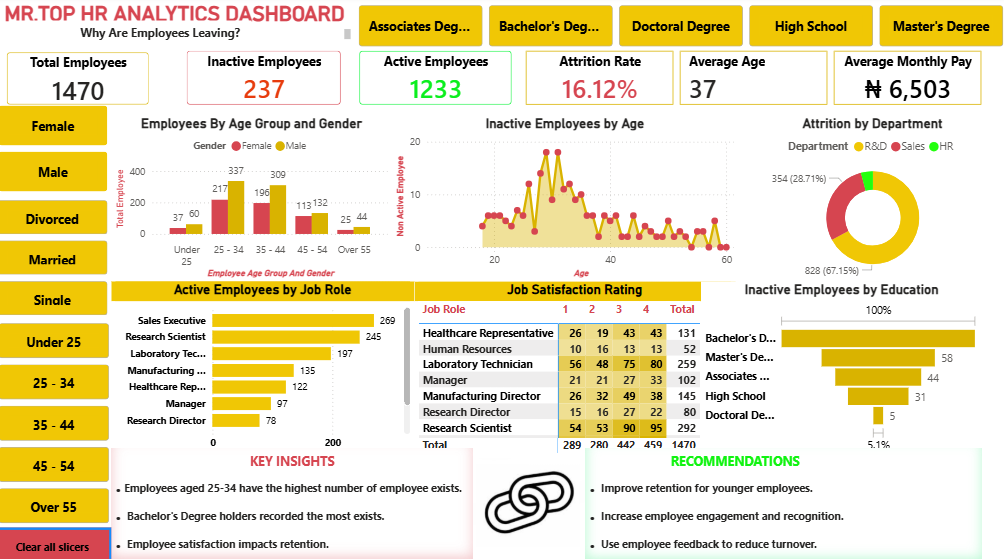

The page's visual inventory and layout, read from the dashboard file:
{"tool":"powerbi","page":{"name":"Dashboard","canvas":[1280,720],"ordinal":0},"visuals":[{"type":"cardVisual","fields":{"Data":["Sum(HR data.Employee Count)"]},"box":[0,54.7,213.2,100],"z":0},{"type":"cardVisual","fields":{"Data":["Sum(HR data.Attrition Column)"]},"box":[226.8,52.9,228.7,102],"z":1000},{"type":"cardVisual","fields":{"Data":["Sum(HR data.Non-Active Employee)"]},"box":[444.1,52.9,226.8,102],"z":2000},{"type":"cardVisual","fields":{"Data":["HR data.Attrition Rate","Avg(HR data.Age)","Avg(HR data.Monthly Income)"]},"box":[653.9,52.9,608.5,102],"z":3000},{"type":"clusteredColumnChart","title":"Employees By Age Group and Gender","fields":{"Y":["Sum(HR data.Employee Count)"],"Category":["HR data.Age Group"],"Series":["HR data.Gender"]},"box":[149.1,150.9,352.8,209.4],"z":4000},{"type":"areaChart","title":"Inactive Employees by Age","fields":{"Category":["HR data.Age"],"Y":["Sum(HR data.Non-Active Employee)"]},"box":[501.9,150.9,435.8,209.4],"z":5000},{"type":"donutChart","title":"Attrition by Department","fields":{"Category":["HR data.Department"],"Y":["Sum(HR data.Active Employee)"]},"box":[937.7,150.9,341.5,209.4],"z":6000},{"type":"clusteredBarChart","title":"Active Employees by Job Role","fields":{"Category":["HR data.Job Role"],"Y":["Sum(HR data.Active Employee)"]},"box":[149.1,360.4,381.1,220.8],"z":7000},{"type":"pivotTable","title":"Job Satisfaction Rating","fields":{"Rows":["HR data.Job Role"],"Columns":["HR data.Job Satisfaction"],"Values":["Sum(HR data.Employee Count)"]},"box":[530.2,360.4,403.8,220.8],"z":8000},{"type":"funnel","title":"Inactive Employees by Education","fields":{"Category":["HR data.Education"],"Y":["Sum(HR data.Non-Active Employee)"]},"box":[892.5,360.4,354.7,220.8],"z":9000},{"type":"advancedSlicerVisual","fields":{"Values":["HR data.Gender"]},"box":[1.9,134.2,147.4,119.1],"z":10000},{"type":"advancedSlicerVisual","fields":{"Values":["HR data.Marital Status"]},"box":[0,253,149.4,157.3],"z":11000},{"type":"advancedSlicerVisual","fields":{"Values":["HR data.Age Group"]},"box":[2,408.3,149.4,262.9],"z":12000},{"type":"advancedSlicerVisual","fields":{"Values":["HR data.Education"]},"box":[455.4,7.6,823.9,62.4],"z":13000},{"type":"actionButton","box":[0,671.2,149.4,47.8],"z":14000},{"type":"textbox","title":"MR.TOP HR ANALYTICS DASHBOARD","box":[1.9,7.6,453.5,49.1],"z":15000},{"type":"textbox","box":[149.3,570.7,455.4,147.4],"z":16000},{"type":"textbox","box":[747.2,569.8,500,149.1],"z":17000},{"type":"image","box":[604.7,591.5,138,103.9],"z":18000},{"type":"textbox","box":[22.7,32.1,302.4,37.8],"z":19000}]}

Visuals, with their boxes in screenshot pixels (x1, y1, x2, y2), scaled from the page's 1280x720 canvas onto the 1004x559 screenshot:
cardVisual - Sum(HR data.Employee Count): (left=0, top=42, right=167, bottom=120)
cardVisual - Sum(HR data.Attrition Column): (left=178, top=41, right=357, bottom=120)
cardVisual - Sum(HR data.Non-Active Employee): (left=348, top=41, right=526, bottom=120)
cardVisual - HR data.Attrition Rate x Avg(HR data.Age): (left=513, top=41, right=990, bottom=120)
"Employees By Age Group and Gender" clusteredColumnChart: (left=117, top=117, right=394, bottom=280)
"Inactive Employees by Age" areaChart: (left=394, top=117, right=736, bottom=280)
"Attrition by Department" donutChart: (left=736, top=117, right=1003, bottom=280)
"Active Employees by Job Role" clusteredBarChart: (left=117, top=280, right=416, bottom=451)
"Job Satisfaction Rating" pivotTable: (left=416, top=280, right=733, bottom=451)
"Inactive Employees by Education" funnel: (left=700, top=280, right=978, bottom=451)
advancedSlicerVisual - HR data.Gender: (left=1, top=104, right=117, bottom=197)
advancedSlicerVisual - HR data.Marital Status: (left=0, top=196, right=117, bottom=319)
advancedSlicerVisual - HR data.Age Group: (left=2, top=317, right=119, bottom=521)
advancedSlicerVisual - HR data.Education: (left=357, top=6, right=1003, bottom=54)
actionButton: (left=0, top=521, right=117, bottom=558)
"MR.TOP HR ANALYTICS DASHBOARD" textbox: (left=1, top=6, right=357, bottom=44)
textbox: (left=117, top=443, right=474, bottom=558)
textbox: (left=586, top=442, right=978, bottom=558)
image: (left=474, top=459, right=583, bottom=540)
textbox: (left=18, top=25, right=255, bottom=54)
